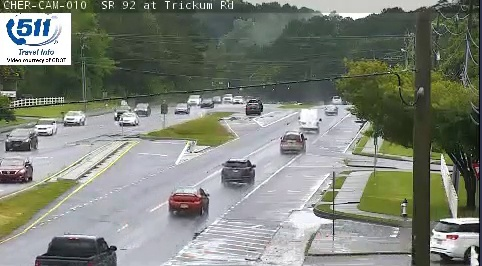car: (36, 236, 117, 266), (169, 187, 208, 212), (220, 159, 254, 184), (280, 132, 306, 155), (324, 104, 339, 116)
van: (299, 109, 318, 132)
